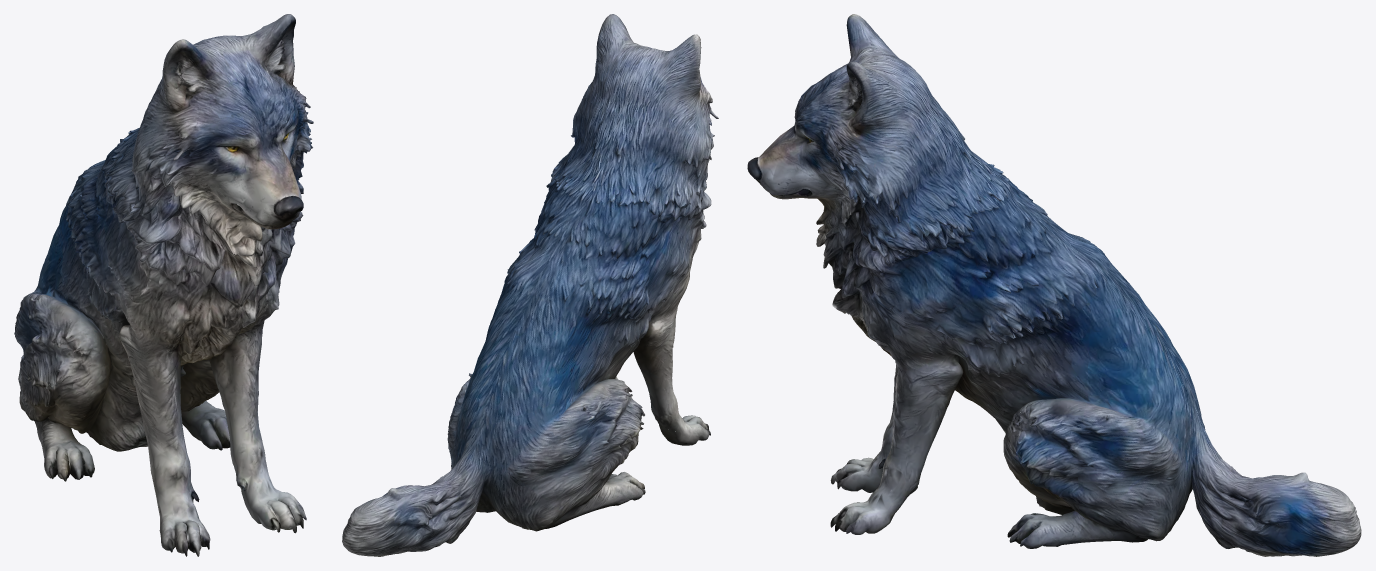
The model's file is blue-wolf.glb.
3 renders of one model, left to right at view 1: azimuth 30°, elevation 25°; view 2: azimuth 150°, elevation 25°; view 3: azimuth 270°, elevation 25°, orthographic. The views are drawn at different scales.
Parts seen in each view (by area): view 1: node_67b26d32-bca1-46fd-8314-9b92cb118c2d; view 2: node_67b26d32-bca1-46fd-8314-9b92cb118c2d; view 3: node_67b26d32-bca1-46fd-8314-9b92cb118c2d.
Boxes of the visible parts, x1=… form: node_67b26d32-bca1-46fd-8314-9b92cb118c2d: x1=14, y1=14, x2=313, y2=556; node_67b26d32-bca1-46fd-8314-9b92cb118c2d: x1=342, y1=14, x2=718, y2=556; node_67b26d32-bca1-46fd-8314-9b92cb118c2d: x1=747, y1=14, x2=1361, y2=556.
Bounding box in the file's own units: 0.3699 × 0.8359 × 0.9782.
Materials: 1 (1 with a texture image).
